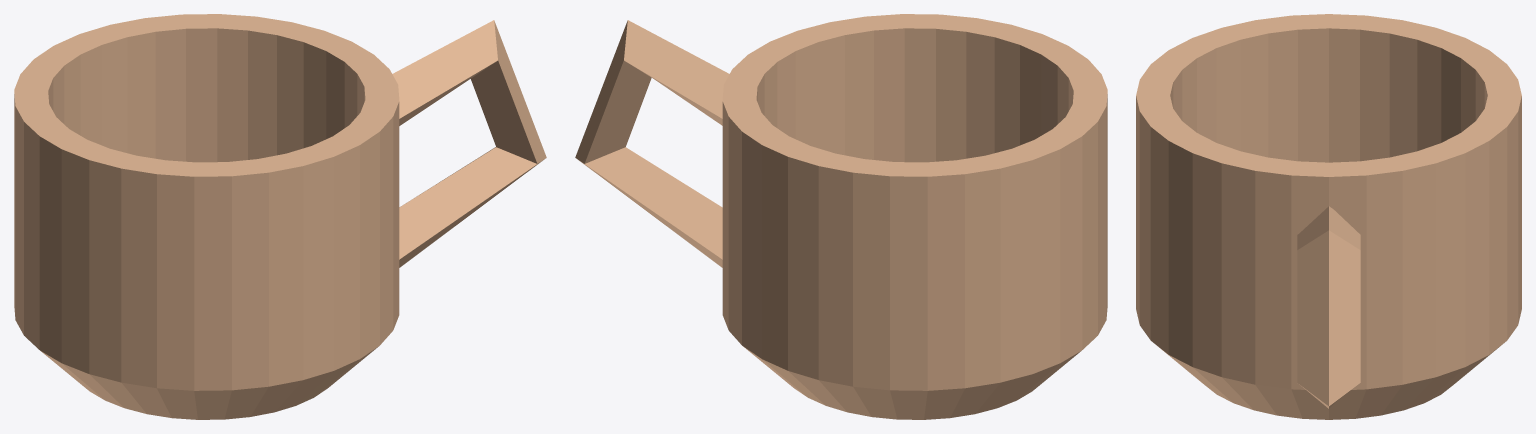
3 views of the same model, side by side, from view 1: azimuth 30°, elevation 25°; view 2: azimuth 150°, elevation 25°; view 3: azimuth 270°, elevation 25° (orthographic).
Parts seen in each view (by area): view 1: BA-0036 batched; view 2: BA-0036 batched; view 3: BA-0036 batched.
Part boxes in pixels (<box>): BA-0036 batched: <box>14,14,546,419</box>; BA-0036 batched: <box>575,14,1107,419</box>; BA-0036 batched: <box>1136,14,1521,419</box>.
Bounding box in the file's own units: 0.2578 × 0.1326 × 0.17.
